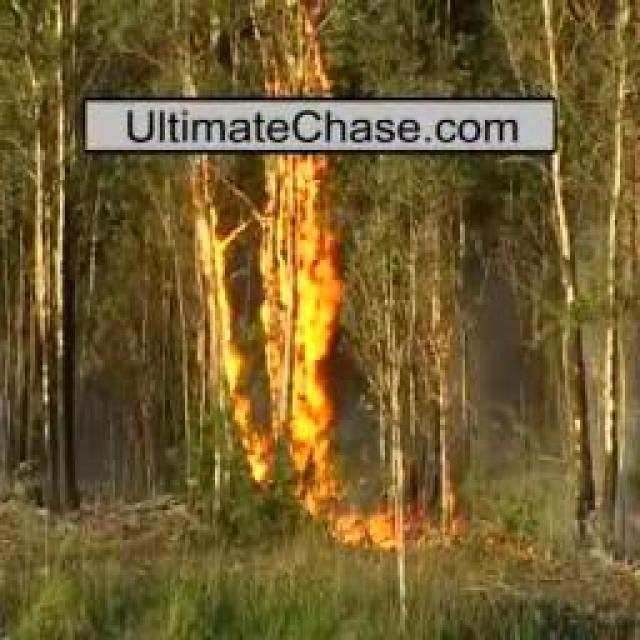Fire: (198, 162, 352, 501), (273, 1, 346, 95), (312, 518, 405, 556)
